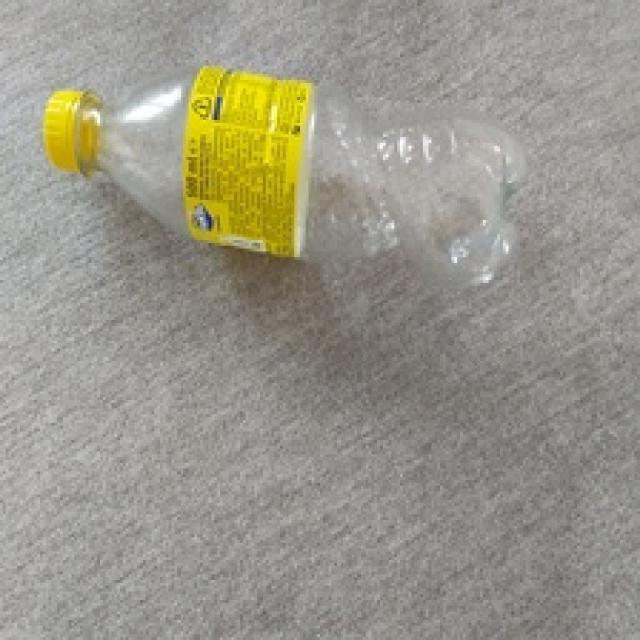plastic_bottle: (41, 65, 528, 282)
